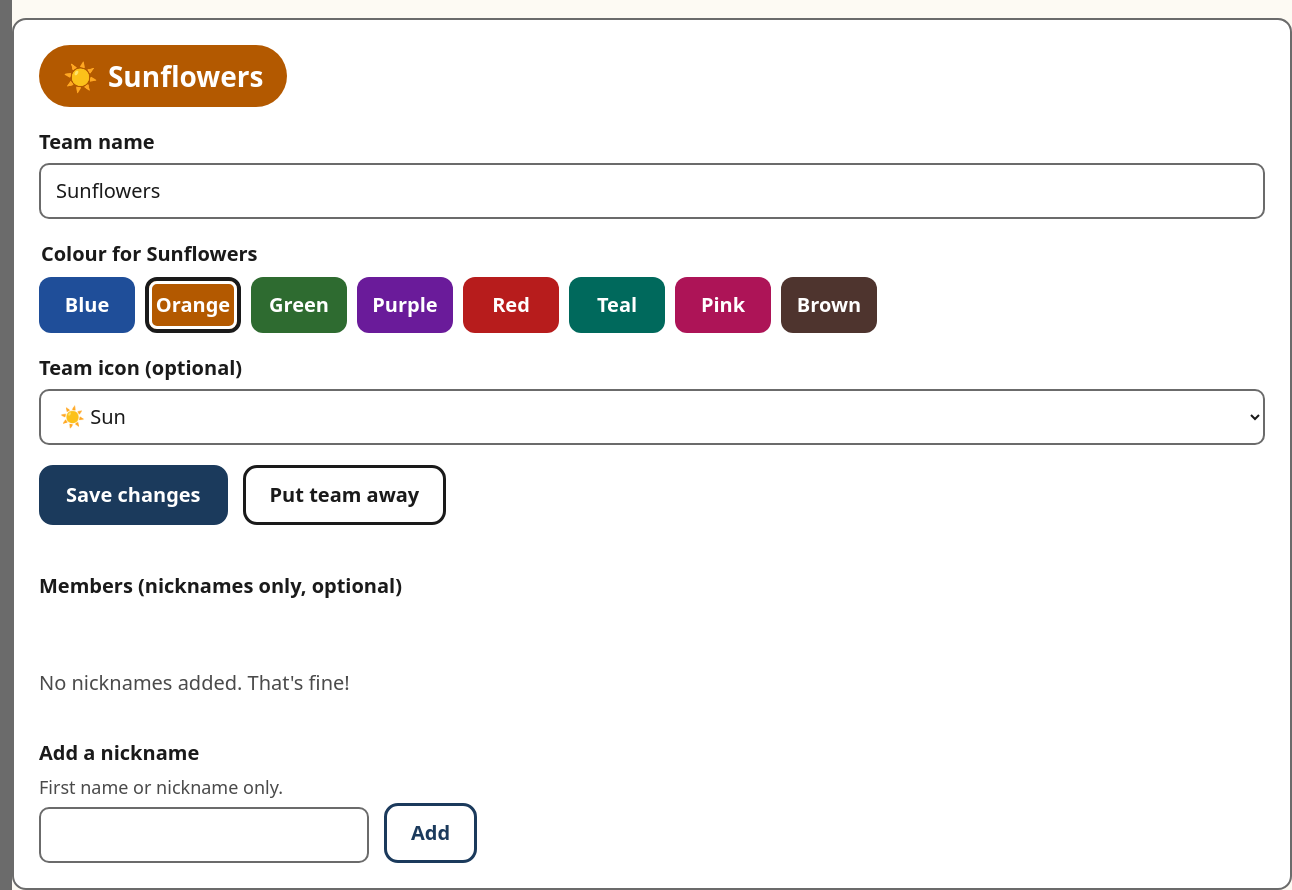
Test: adds a nickname to a team
(page scrolled)
Type "Rosie" into the field labelled "Add a nickname". click: (204, 835)
box: top-left (39, 807), bottom-right (369, 863)
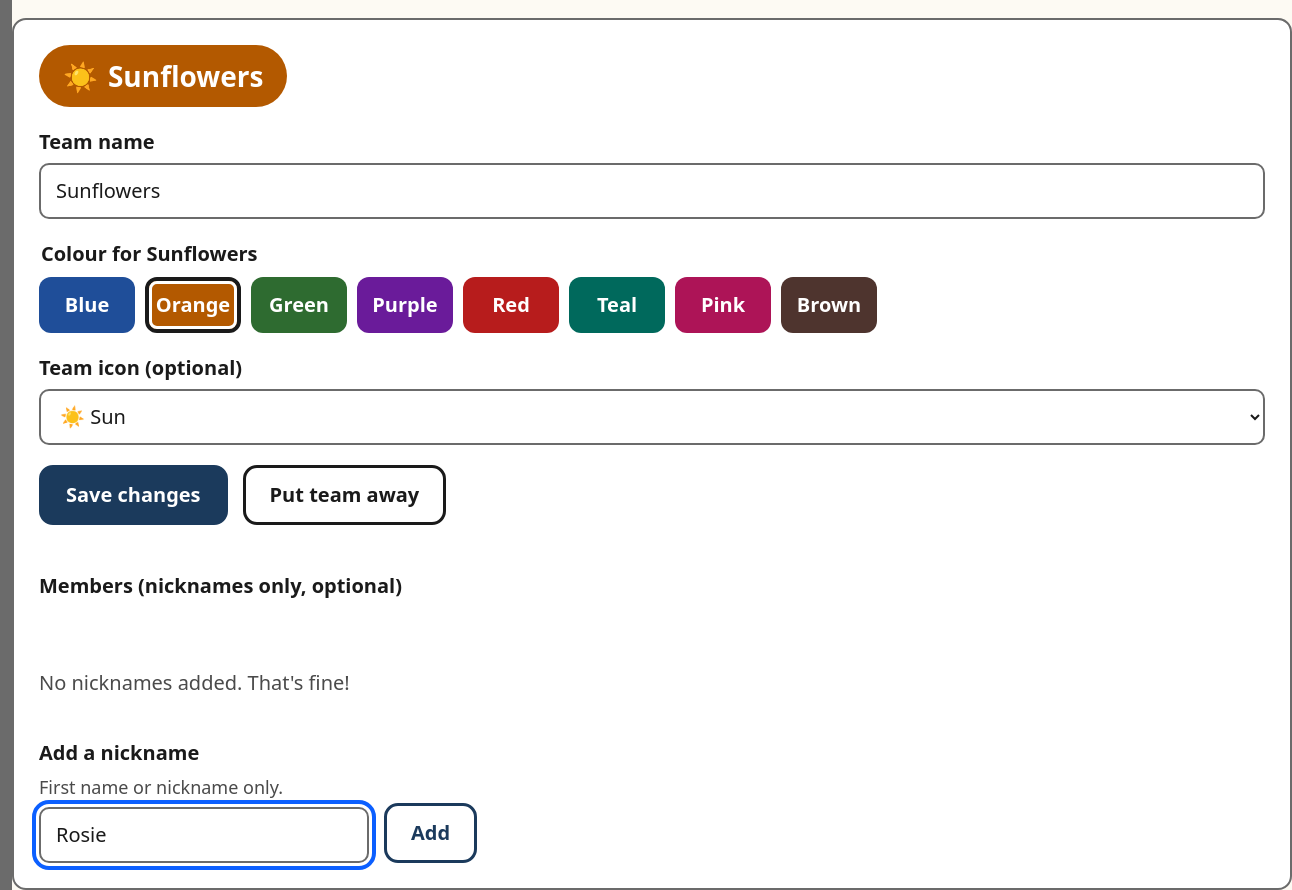
Click the button "Add". click: (431, 833)
box: top-left (384, 803), bottom-right (477, 863)
(page scrolled)
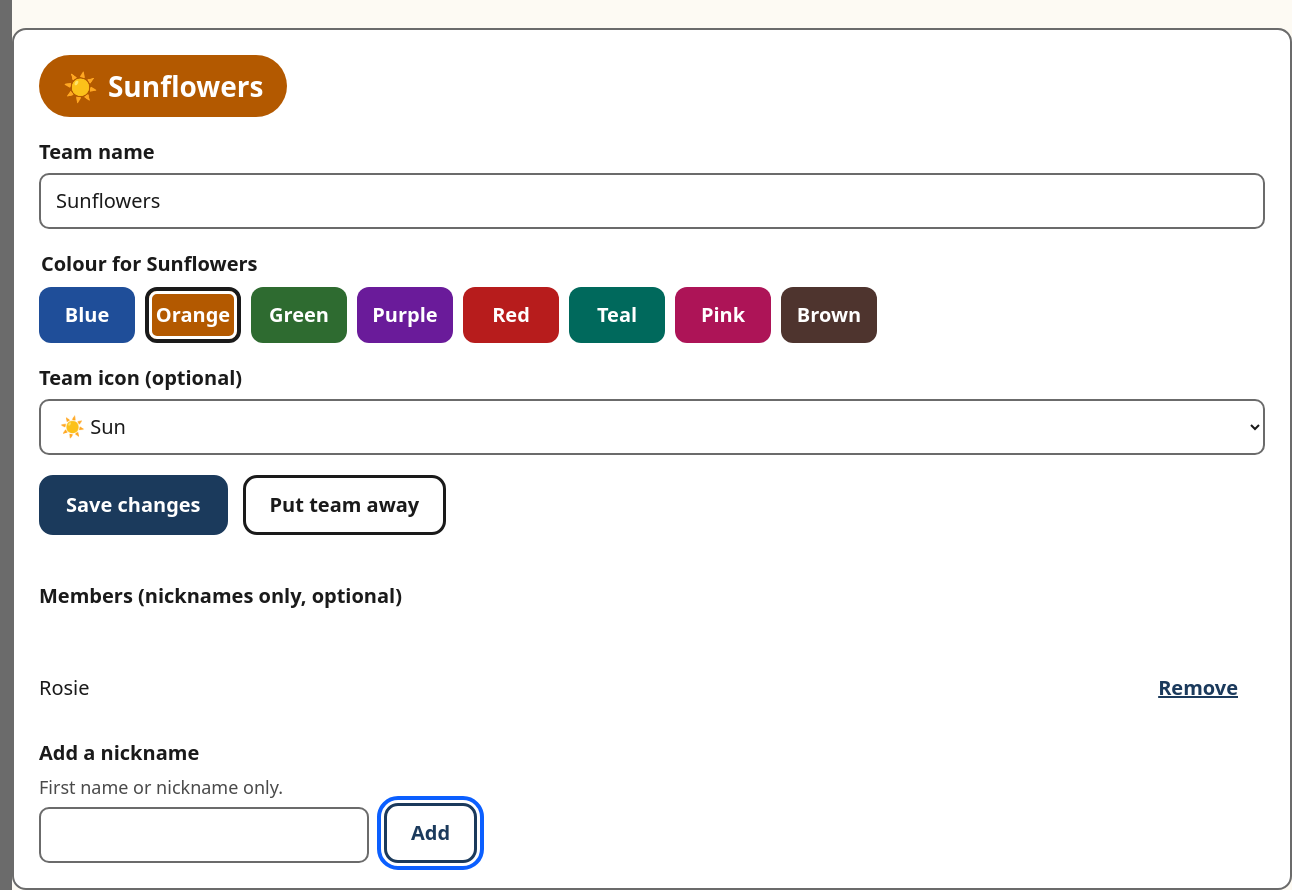
Expected: the button with aria-label "Remove Rosie" is shown, top-left (1131, 658), bottom-right (1265, 718)
